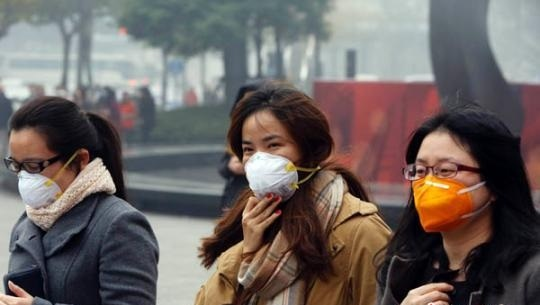face_mask: (413, 134, 480, 232), (6, 134, 66, 210), (242, 116, 297, 196)
